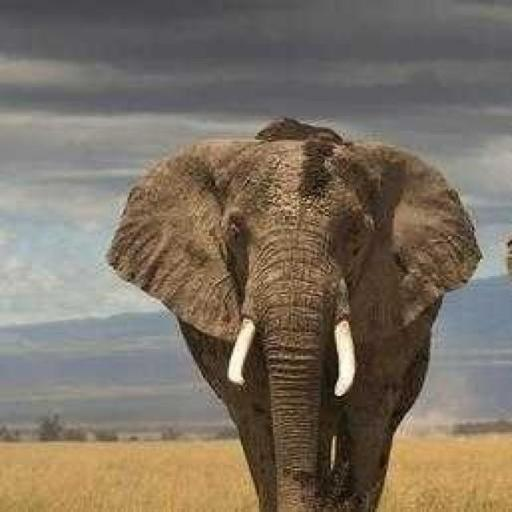Elephant: (104, 114, 482, 510)
